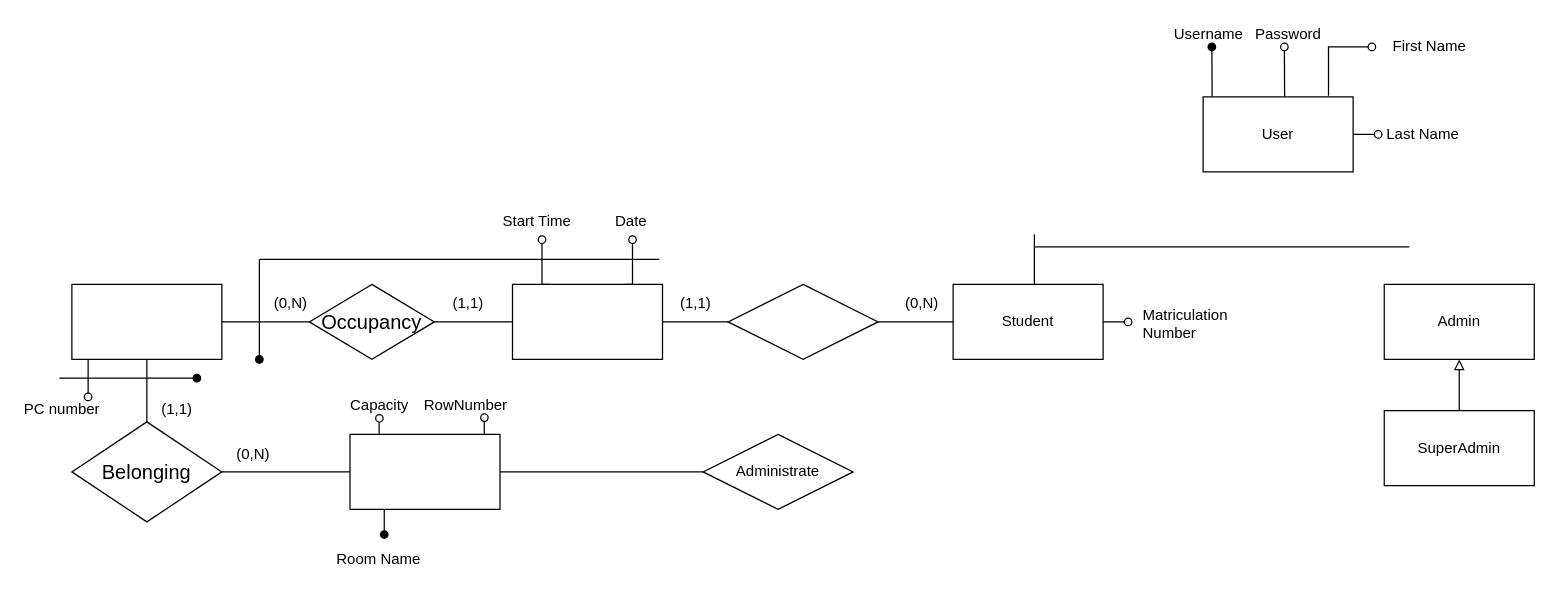
Image size: 1556x593. Some labels were removed from this diagram. The centre of each missing label's shape, as x and y in pixels:
"Booking" belongs at pixel 586 321.
"PC" belongs at pixel 146 321.
"Reservation" belongs at pixel 802 321.
"Room" belongs at pixel 424 471.
